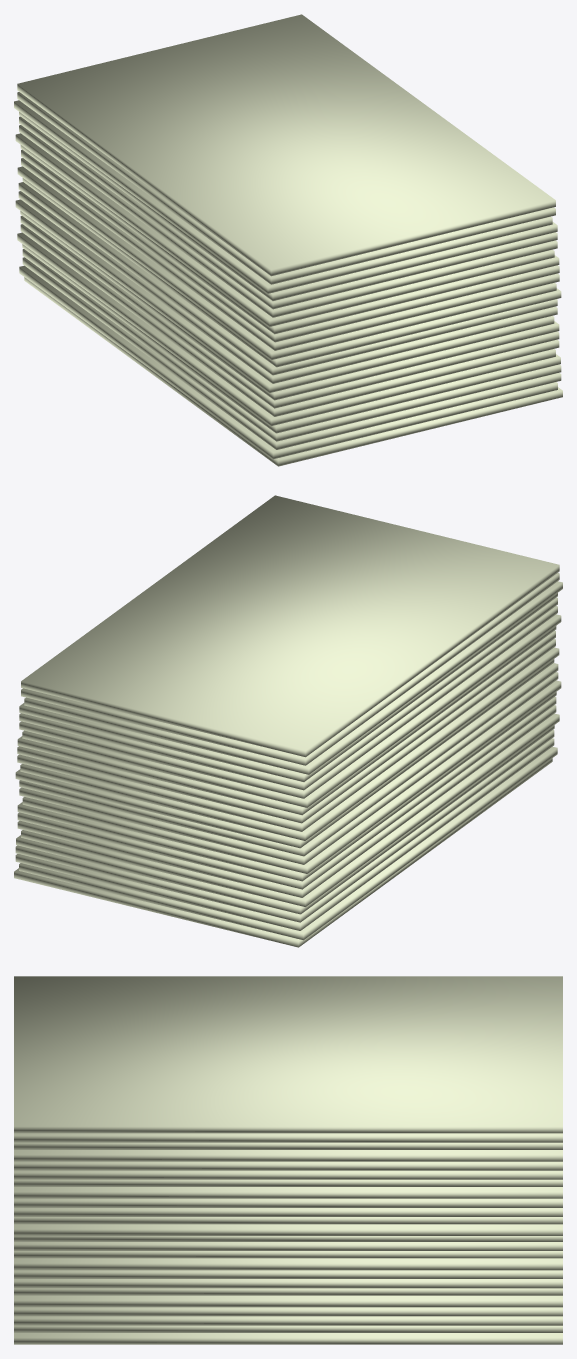
Rendered from busy_card_deck.glb.
3 renders of one model, top to bottom at view 1: azimuth 30°, elevation 25°; view 2: azimuth 150°, elevation 25°; view 3: azimuth 270°, elevation 25°, orthographic. The views are drawn at different scales.
Parts seen in each view (by area): view 1: Object_2; view 2: Object_2; view 3: Object_2.
Boxes of the visible parts, <box> form: Object_2: <box>14,14,562,466</box>; Object_2: <box>14,495,562,947</box>; Object_2: <box>14,976,562,1344</box>.
Size of the model in its own units: 56.97 by 36.64 by 85.
